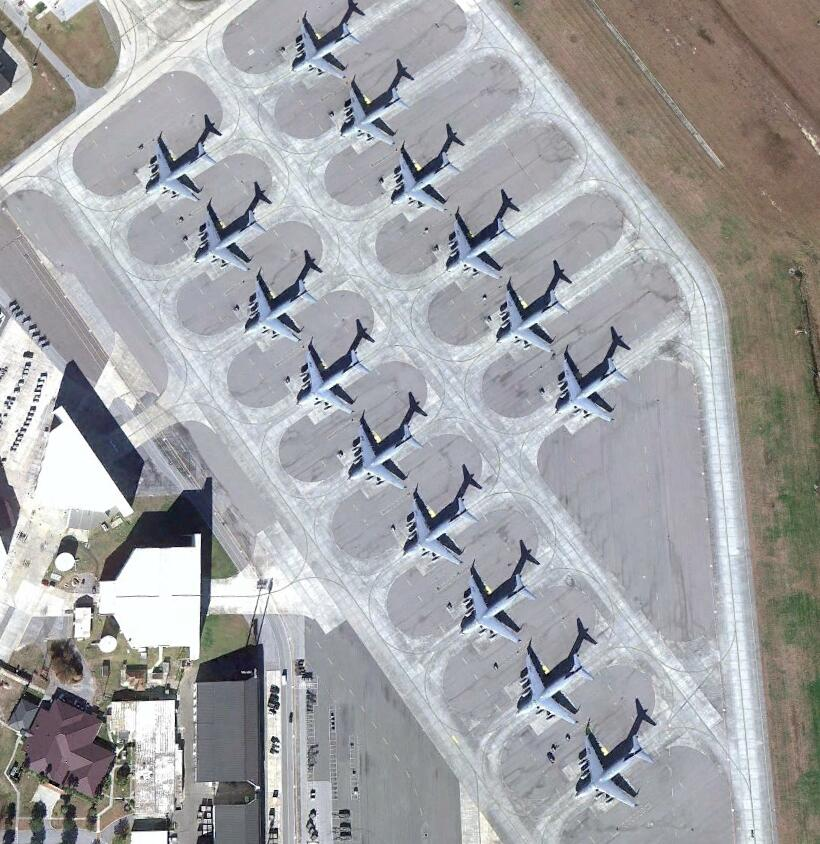A3: (574, 736, 654, 812), (515, 652, 596, 725), (401, 495, 479, 568), (459, 572, 537, 643), (346, 422, 423, 493), (141, 137, 216, 202), (243, 277, 318, 342), (499, 287, 573, 352), (444, 216, 519, 279), (390, 151, 462, 216), (557, 357, 629, 421), (296, 348, 368, 412), (191, 208, 264, 271), (338, 86, 411, 147), (290, 20, 361, 79)
